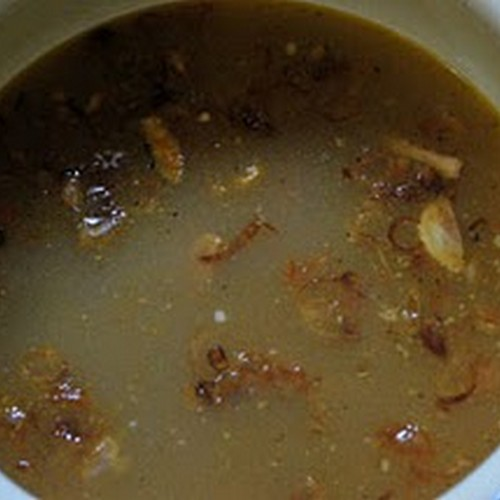komoh: (40, 163, 469, 471)
